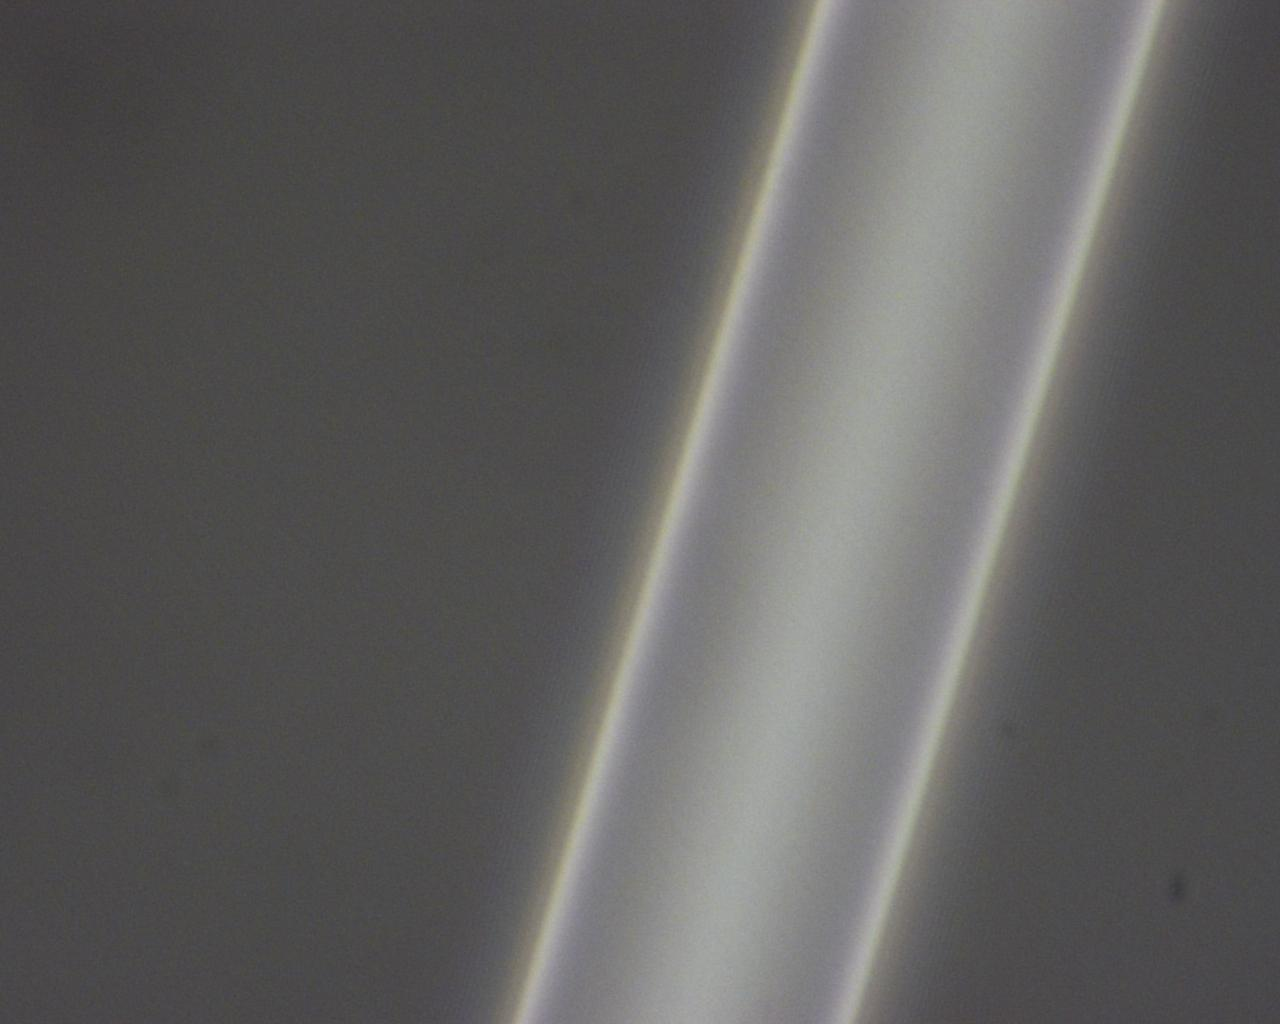fiber: (510, 0, 1170, 1024)
